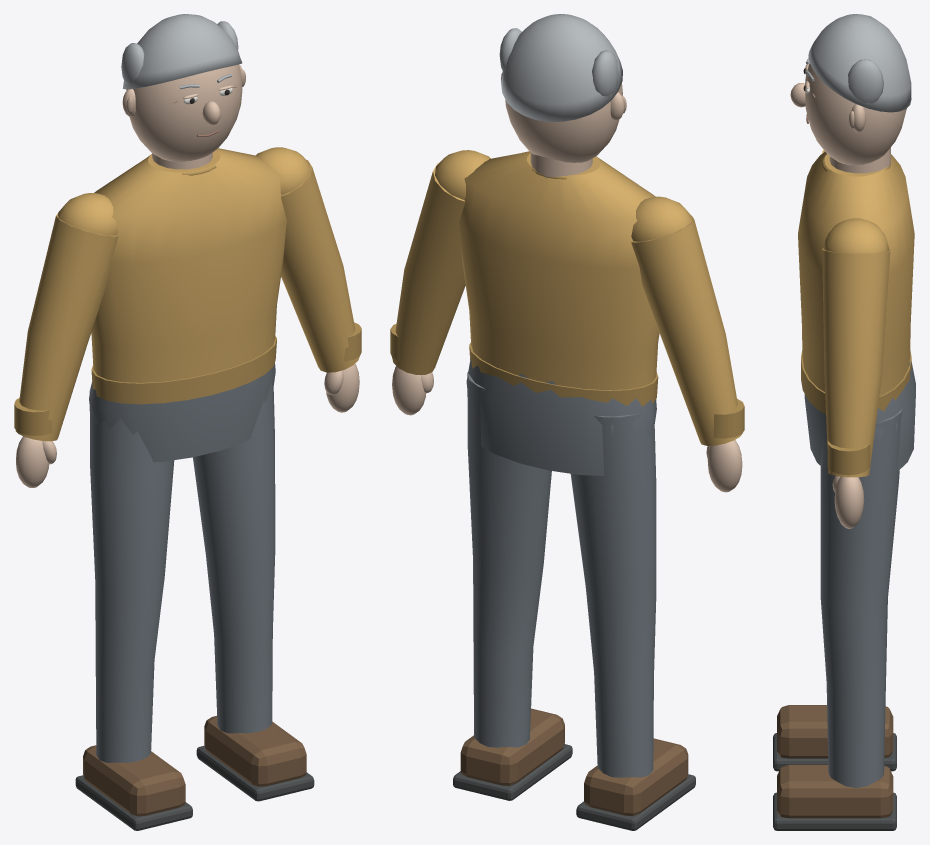
The model's file is person_older_grey_hair_sweater.glb.
The picture shows the model from 3 angles, left to right: view 1: azimuth 30°, elevation 25°; view 2: azimuth 150°, elevation 25°; view 3: azimuth 270°, elevation 25°; orthographic projection.
Visible parts, largest first — view 1: Grey_Hair_Adult_Torso_And_Main_Clothes, Grey_Hair_Adult_Trouser_Leg, Grey_Hair_Adult_Trouser_Leg.001, Grey_Hair_Adult_Long_Sleeve, Grey_Hair_Adult_Long_Sleeve.001, Grey_Hair_Adult_Connected_Hip_Garment, Grey_Hair_Adult_Head, Grey_Hair_Adult_Hair_Cap, Grey_Hair_Adult_Shoe_Upper, Grey_Hair_Adult_Shoe_Upper.001, Grey_Hair_Adult_Sweater_Hem, Grey_Hair_Adult_Rounded_Shoulder_Cloth (+7 smaller); view 2: Grey_Hair_Adult_Torso_And_Main_Clothes, Grey_Hair_Adult_Trouser_Leg, Grey_Hair_Adult_Trouser_Leg.001, Grey_Hair_Adult_Long_Sleeve, Grey_Hair_Adult_Connected_Hip_Garment, Grey_Hair_Adult_Long_Sleeve.001, Grey_Hair_Adult_Hair_Cap, Grey_Hair_Adult_Shoe_Upper, Grey_Hair_Adult_Shoe_Upper.001, Grey_Hair_Adult_Head, Grey_Hair_Adult_Sweater_Hem, Grey_Hair_Adult_Rounded_Shoulder_Cloth (+8 smaller); view 3: Grey_Hair_Adult_Trouser_Leg.001, Grey_Hair_Adult_Torso_And_Main_Clothes, Grey_Hair_Adult_Long_Sleeve.001, Grey_Hair_Adult_Hair_Cap, Grey_Hair_Adult_Shoe_Upper.001, Grey_Hair_Adult_Head, Grey_Hair_Adult_Shoe_Upper, Grey_Hair_Adult_Connected_Hip_Garment, Grey_Hair_Adult_Rounded_Shoulder_Cloth.001, Grey_Hair_Adult_Shoe_Sole.001, Grey_Hair_Adult_Mitten_Hand.001, Grey_Hair_Adult_Grey_Side_Hair.001 (+6 smaller).
Part boxes in pixels (x1,y1,x2,y2): Grey_Hair_Adult_Torso_And_Main_Clothes: (91, 148, 286, 382); Grey_Hair_Adult_Trouser_Leg: (89, 385, 174, 762); Grey_Hair_Adult_Trouser_Leg.001: (193, 382, 275, 733); Grey_Hair_Adult_Long_Sleeve: (15, 213, 118, 441); Grey_Hair_Adult_Long_Sleeve.001: (281, 160, 359, 372); Grey_Hair_Adult_Connected_Hip_Garment: (89, 363, 275, 462); Grey_Hair_Adult_Head: (126, 64, 242, 161); Grey_Hair_Adult_Hair_Cap: (122, 14, 242, 89); Grey_Hair_Adult_Shoe_Upper: (83, 745, 185, 816); Grey_Hair_Adult_Shoe_Upper.001: (204, 716, 306, 786); Grey_Hair_Adult_Sweater_Hem: (91, 336, 276, 404); Grey_Hair_Adult_Rounded_Shoulder_Cloth: (58, 193, 118, 235); Grey_Hair_Adult_Torso_And_Main_Clothes: (459, 151, 659, 390); Grey_Hair_Adult_Trouser_Leg: (570, 412, 656, 777); Grey_Hair_Adult_Trouser_Leg.001: (467, 372, 551, 747); Grey_Hair_Adult_Long_Sleeve: (631, 216, 742, 445); Grey_Hair_Adult_Connected_Hip_Garment: (466, 357, 656, 475); Grey_Hair_Adult_Long_Sleeve.001: (392, 163, 465, 374); Grey_Hair_Adult_Hair_Cap: (501, 14, 622, 121); Grey_Hair_Adult_Shoe_Upper: (584, 738, 688, 815); Grey_Hair_Adult_Shoe_Upper.001: (460, 708, 564, 785); Grey_Hair_Adult_Head: (505, 83, 622, 162); Grey_Hair_Adult_Sweater_Hem: (469, 342, 658, 406); Grey_Hair_Adult_Rounded_Shoulder_Cloth: (631, 196, 692, 241); Grey_Hair_Adult_Trouser_Leg.001: (820, 408, 902, 787); Grey_Hair_Adult_Torso_And_Main_Clothes: (798, 152, 914, 395); Grey_Hair_Adult_Long_Sleeve.001: (822, 248, 890, 477); Grey_Hair_Adult_Hair_Cap: (808, 14, 911, 112); Grey_Hair_Adult_Shoe_Upper.001: (777, 764, 893, 818); Grey_Hair_Adult_Head: (805, 62, 906, 165); Grey_Hair_Adult_Shoe_Upper: (777, 705, 893, 758); Grey_Hair_Adult_Connected_Hip_Garment: (804, 362, 915, 470); Grey_Hair_Adult_Rounded_Shoulder_Cloth.001: (823, 218, 889, 253); Grey_Hair_Adult_Shoe_Sole.001: (773, 792, 896, 830); Grey_Hair_Adult_Mitten_Hand.001: (834, 476, 864, 528); Grey_Hair_Adult_Grey_Side_Hair.001: (848, 59, 883, 103).
Size of the model in its own units: 0.7871 by 1.68 by 0.2821.
